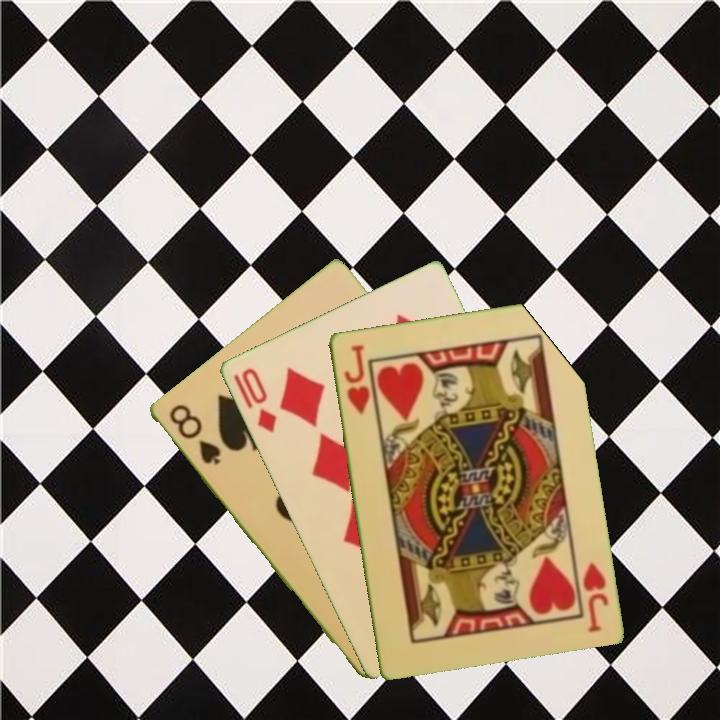10d: (237, 364, 279, 436)
8s: (164, 400, 223, 468)
Jh: (578, 558, 611, 635), (340, 340, 372, 418)
